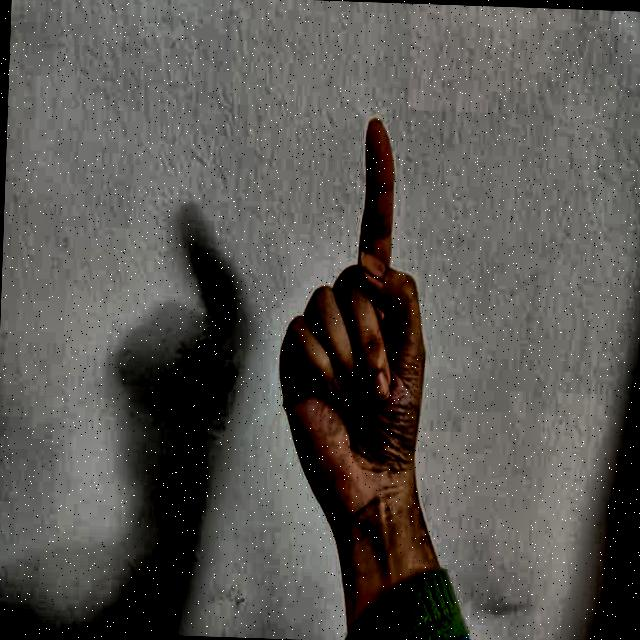U: (246, 90, 471, 564)
